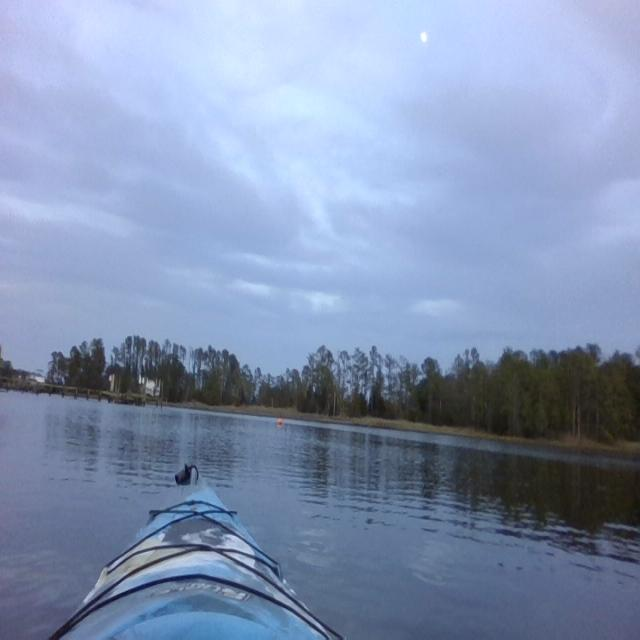Buoy: (278, 418, 284, 428)
